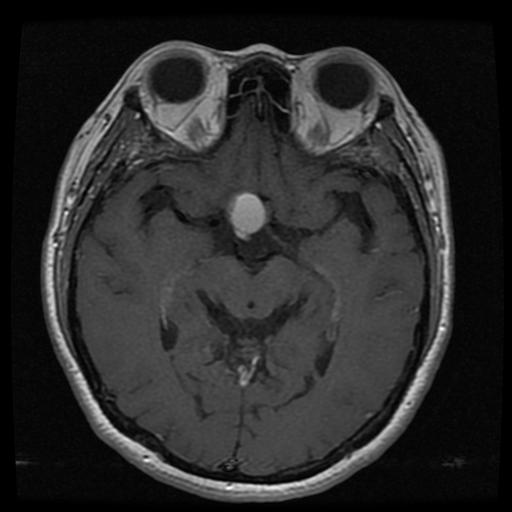Pituirity_tumour: (227, 191, 263, 236)
